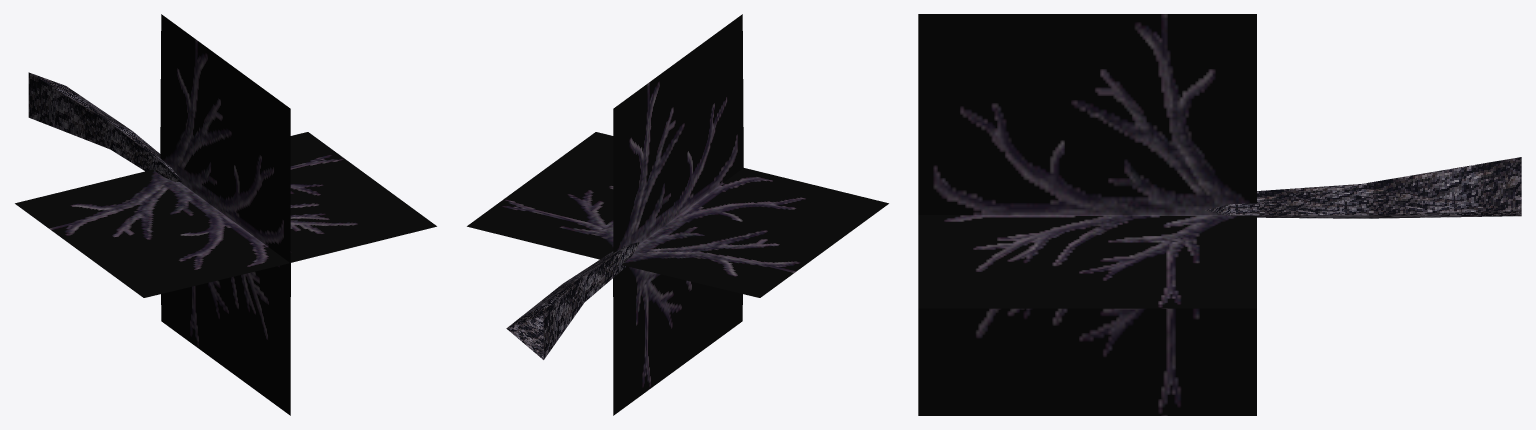
The model's file is dedpine1.obj.
3 views of the same model, side by side, from view 1: azimuth 30°, elevation 25°; view 2: azimuth 150°, elevation 25°; view 3: azimuth 270°, elevation 25° (orthographic). The views are drawn at different scales.
Size of the model in its own units: 60 by 60 by 81.58.
2 materials, 2 textured.
